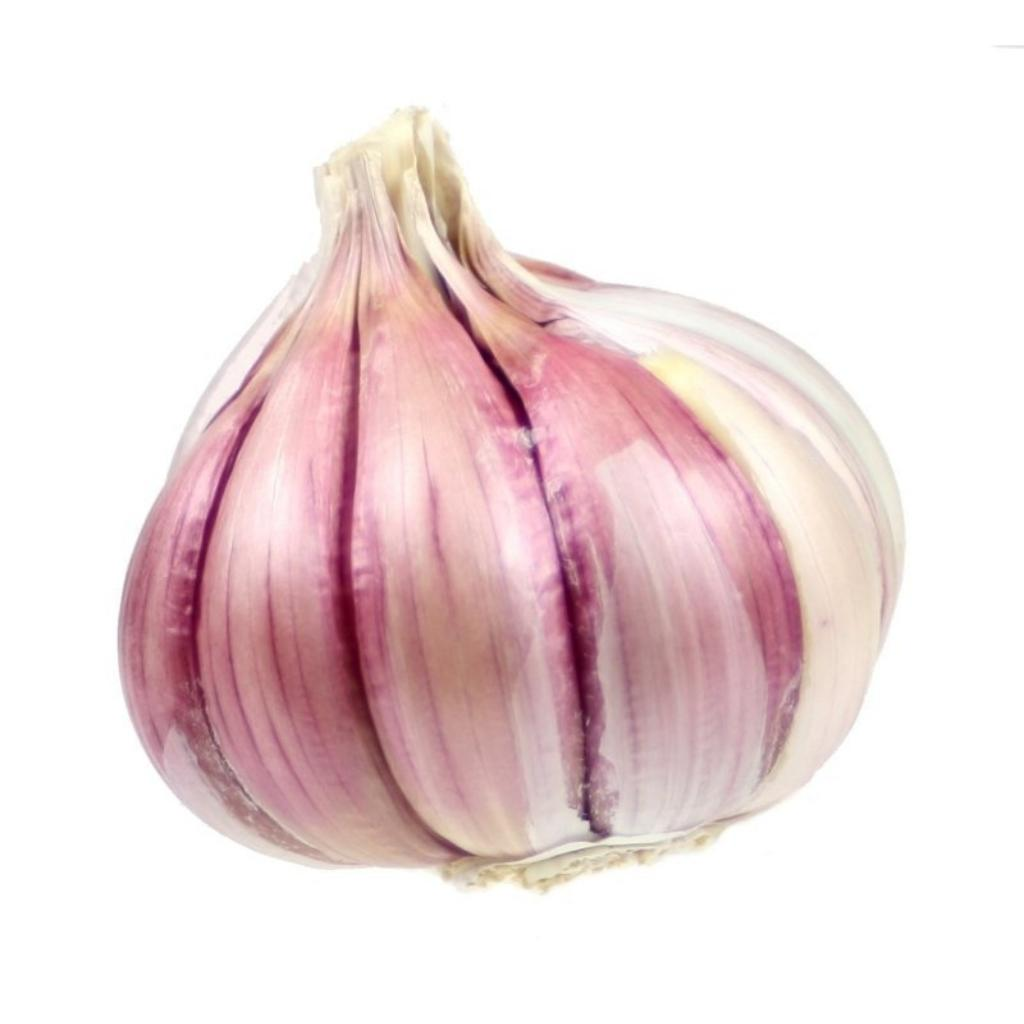garlic: (119, 109, 900, 863)
